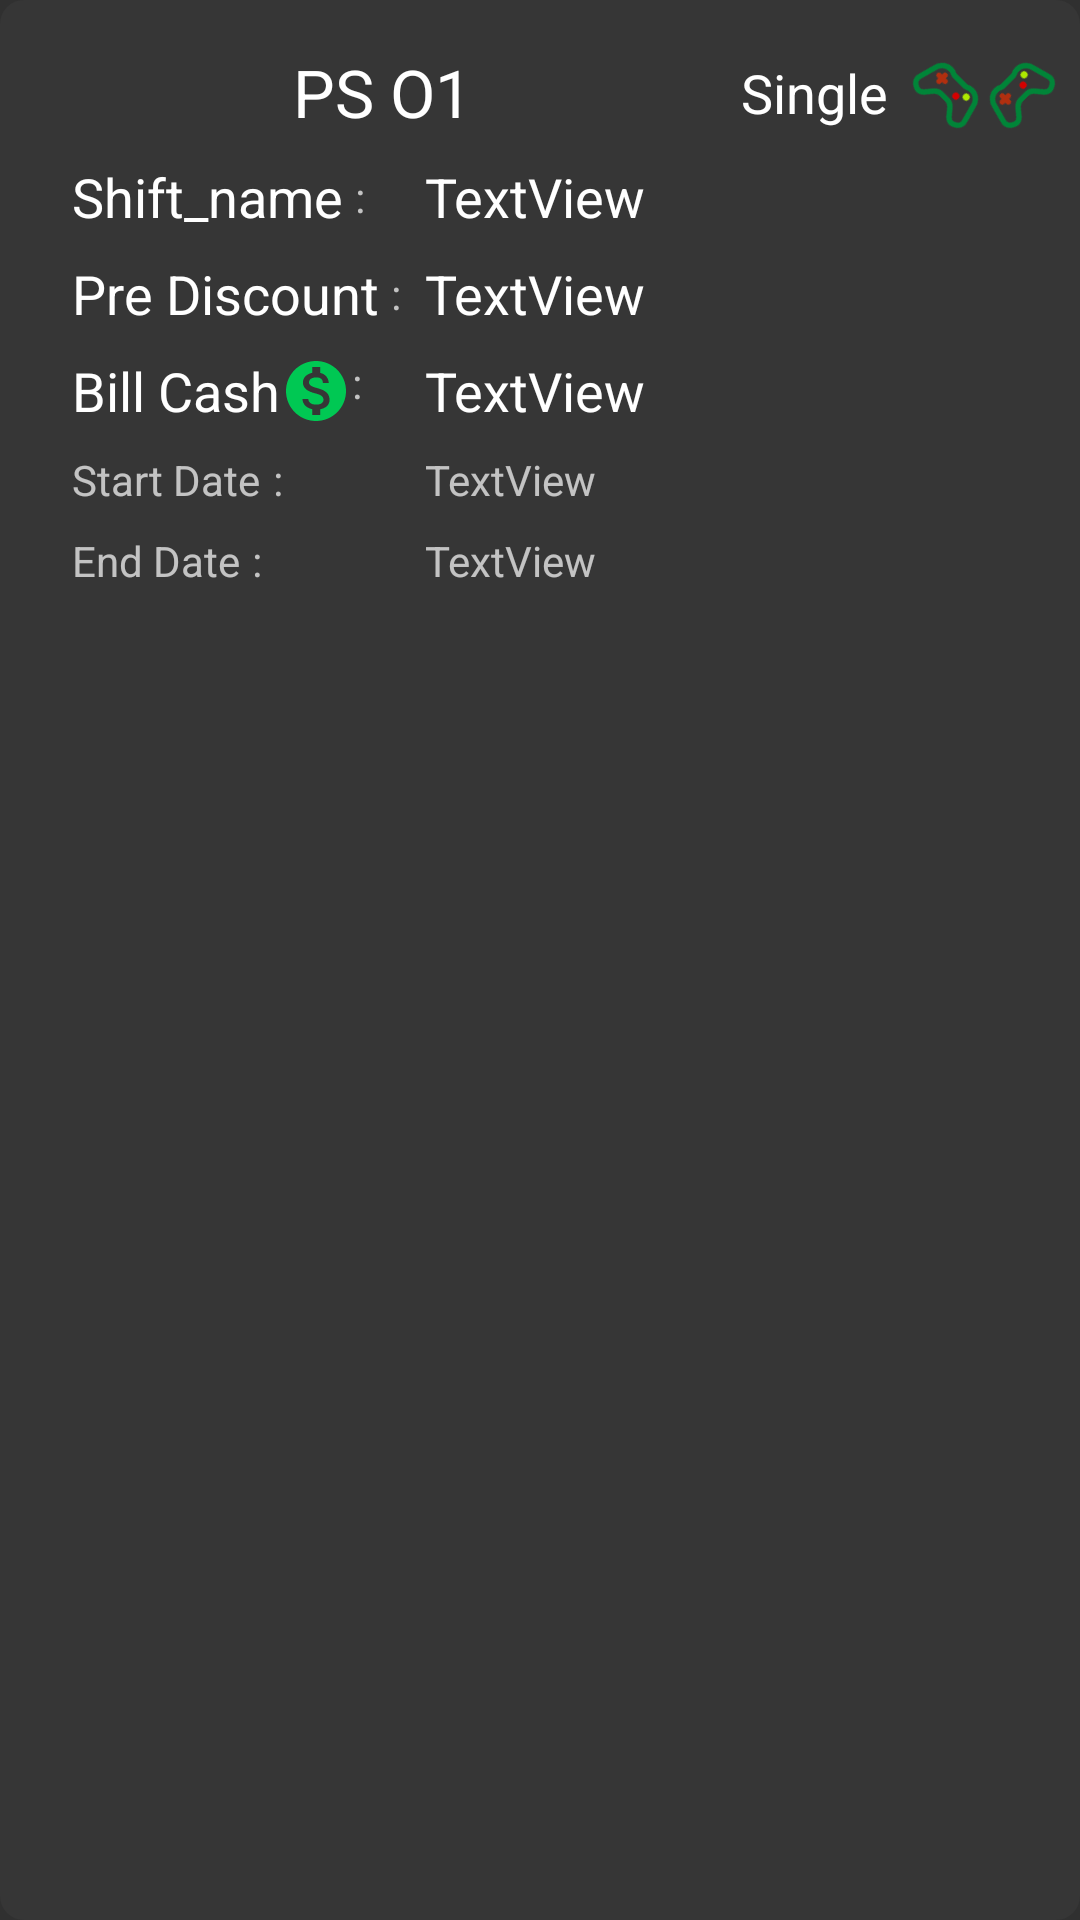

Point at icon controls on the screen. Image size 1080*1920, points as [x,y].
money: [316,391]
